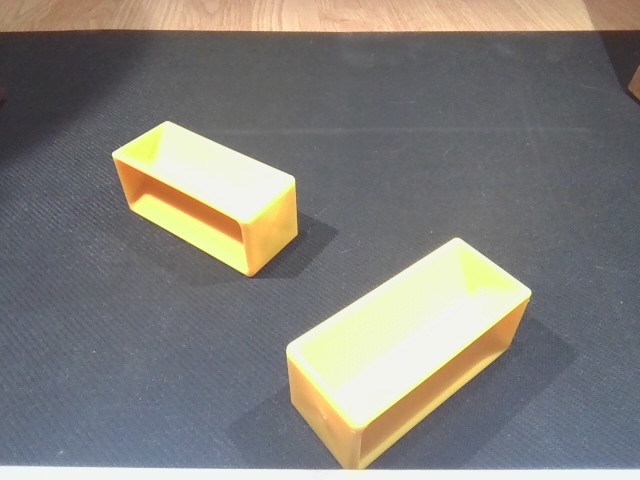YellowSample: (280, 232, 536, 470), (108, 116, 308, 280)
